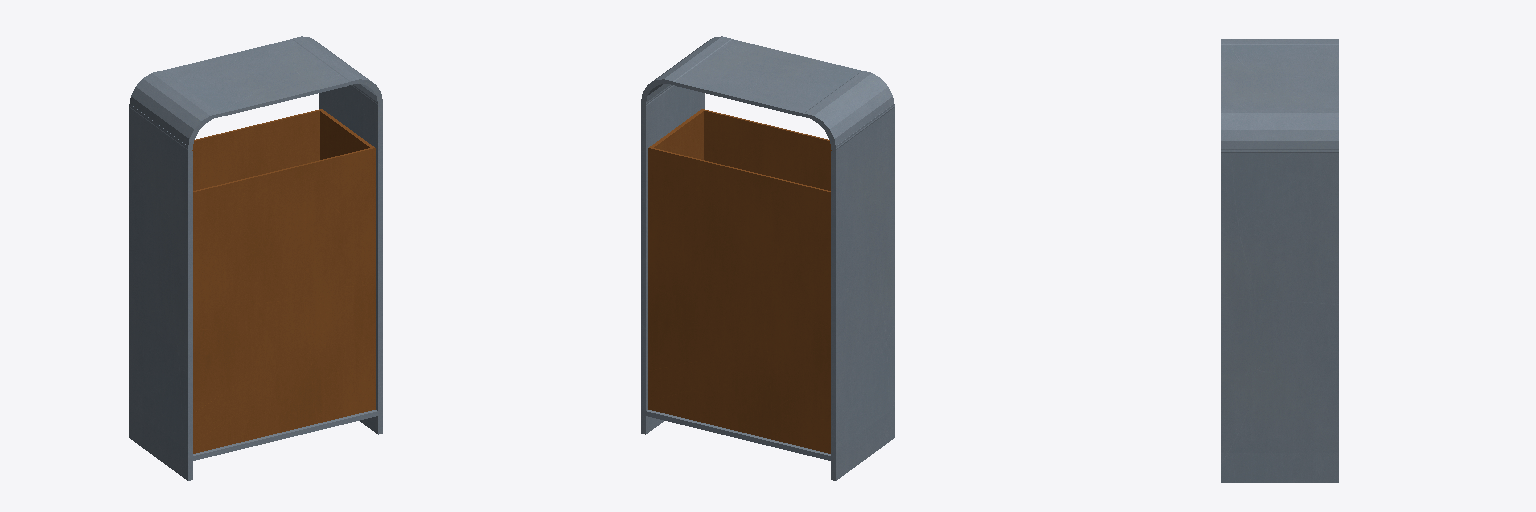
3 views of the same model, side by side, from view 1: azimuth 30°, elevation 25°; view 2: azimuth 150°, elevation 25°; view 3: azimuth 270°, elevation 25° (orthographic).
Parts seen in each view (by area): view 1: Box018, Box017; view 2: Box018, Box017; view 3: Box017.
Part boxes in pixels (x1,y1,x2,y2): Box018: (192,109,375,453); Box017: (129,36,382,480); Box018: (648,109,831,453); Box017: (641,36,894,480); Box017: (1221,39,1338,482).
Bounding box in the file's own units: 27.77 × 48.99 × 14.47.
Materials: 2 (2 with a texture image).